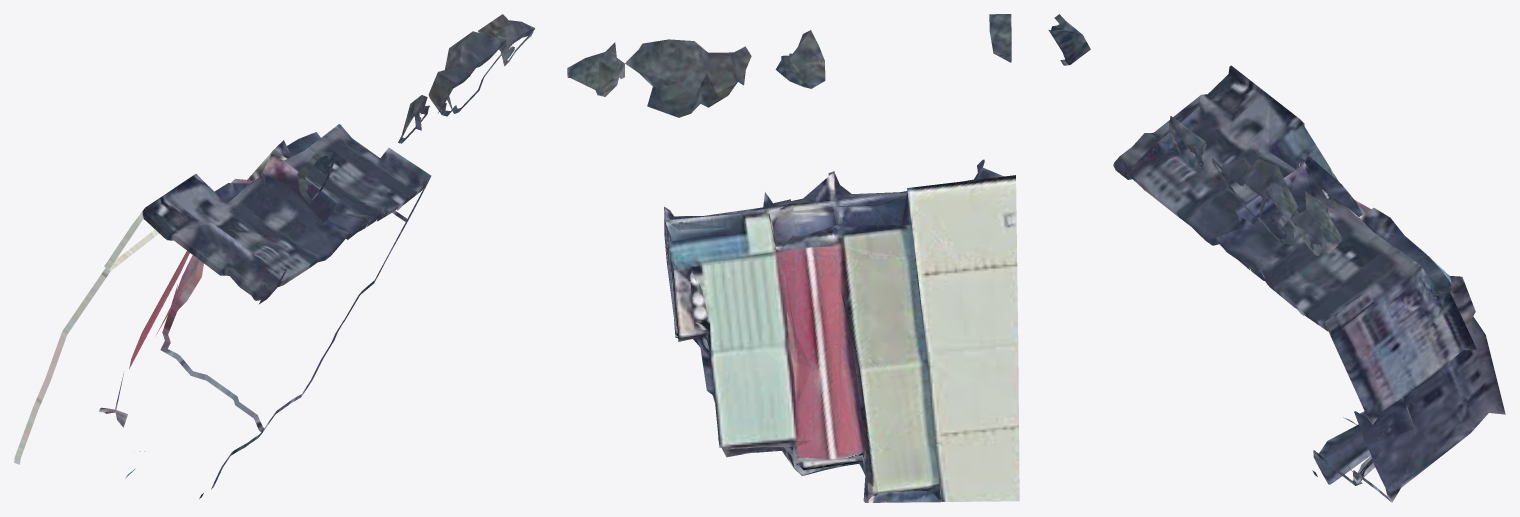
3 renders of one model, left to right at view 1: azimuth 30°, elevation 25°; view 2: azimuth 150°, elevation 25°; view 3: azimuth 270°, elevation 25°, orthographic. The views are drawn at different scales.
Bounding box in the file's own units: 42.54 × 35.26 × 31.78.
Materials: 1 (1 with a texture image).
